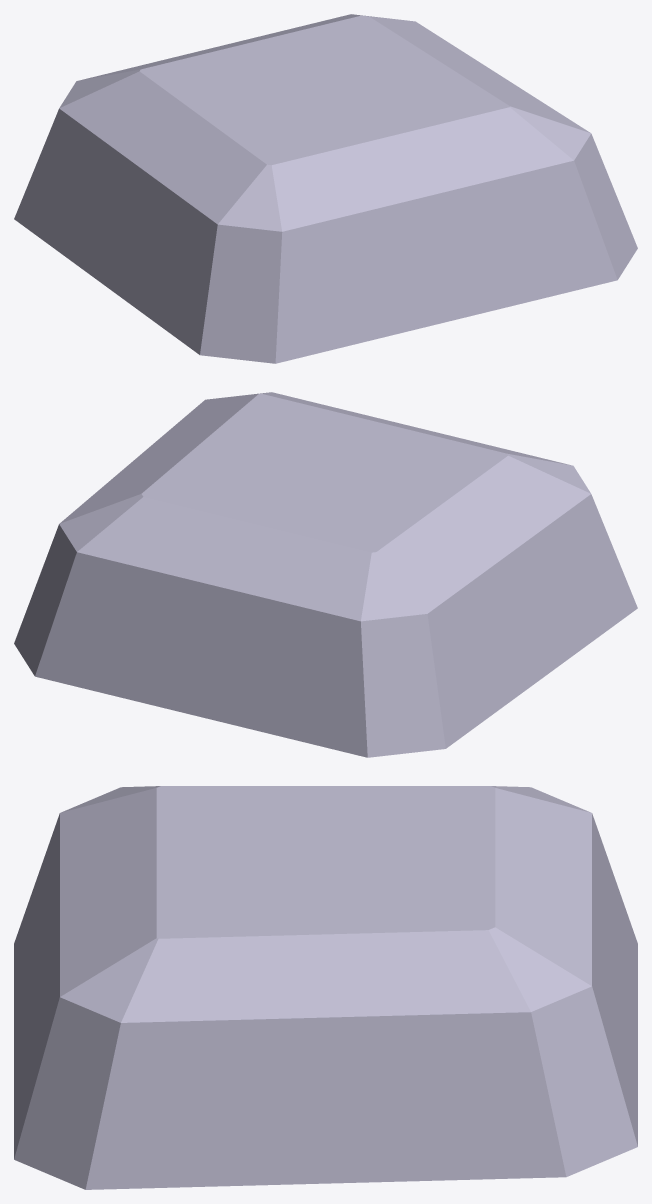
File: Barrior-stone00.fbx
3 renders of one model, top to bottom at view 1: azimuth 30°, elevation 25°; view 2: azimuth 150°, elevation 25°; view 3: azimuth 270°, elevation 25°, orthographic. The views are drawn at different scales.
Visible parts, largest first — view 1: Barrior-stone00; view 2: Barrior-stone00; view 3: Barrior-stone00.
Boxes of the visible parts, bbox=[...] form: Barrior-stone00: bbox=[14, 14, 637, 363]; Barrior-stone00: bbox=[14, 392, 637, 757]; Barrior-stone00: bbox=[14, 786, 637, 1189].
Size of the model in its own units: 1814 by 576 by 1730.
